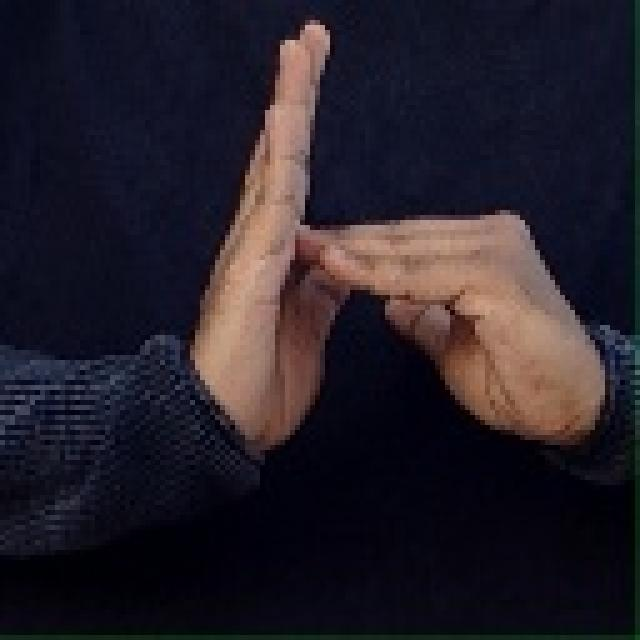Alphabet-Z: (185, 13, 614, 484)
